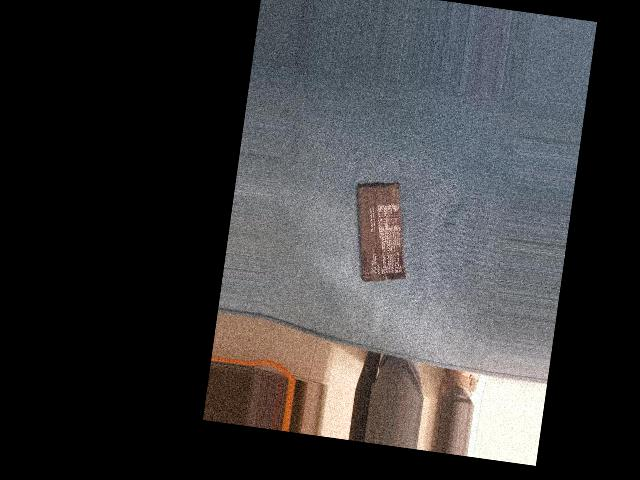chocolate: (341, 177, 426, 290)
